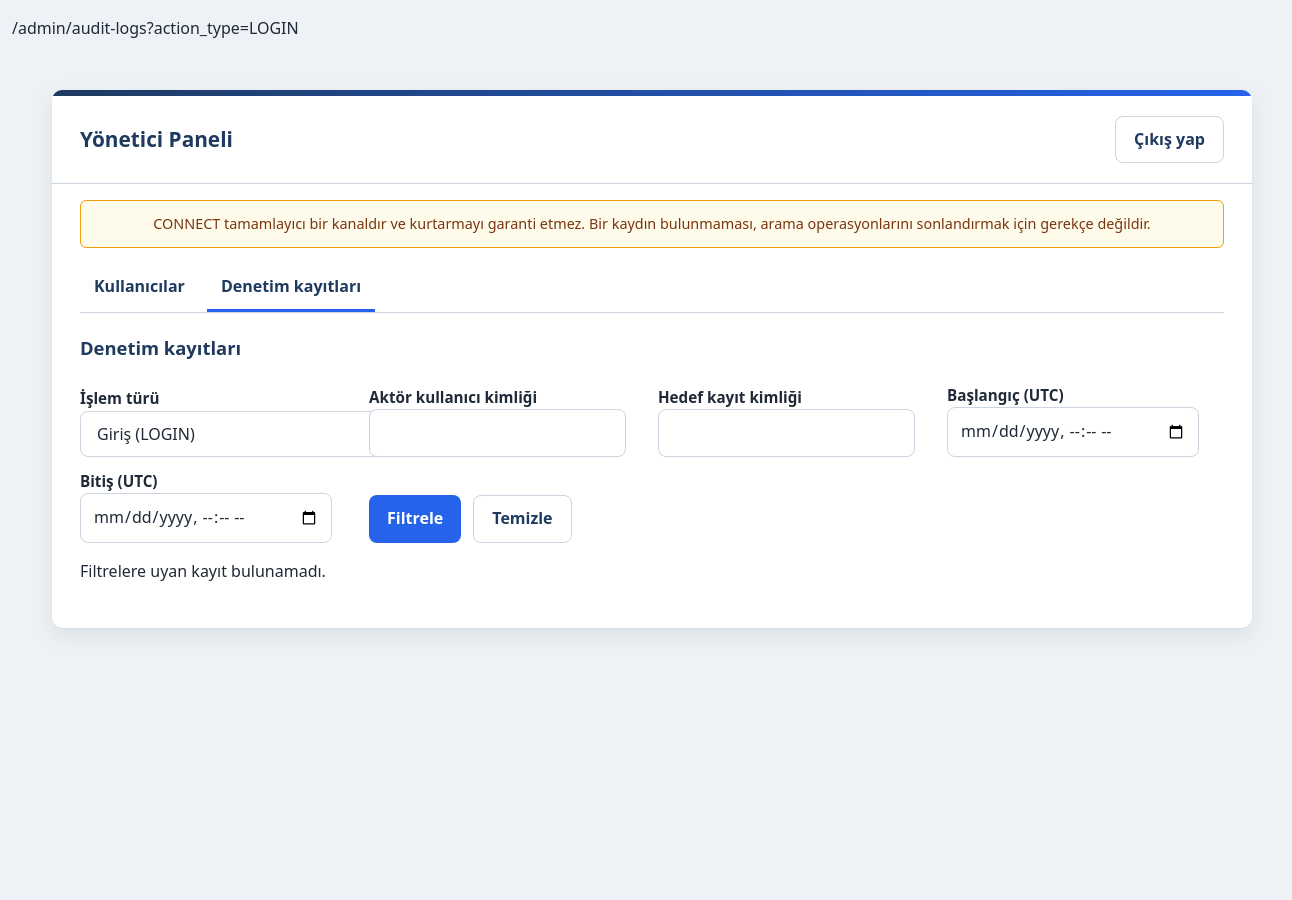
it: AuditLogPage › clears the filters with Temizle
Expected: the text "Filtrelere uyan kayıt bulunamadı." is shown, [80,560,326,582]
Click the button "Temizle" at (522, 519), box [473,495,572,543]
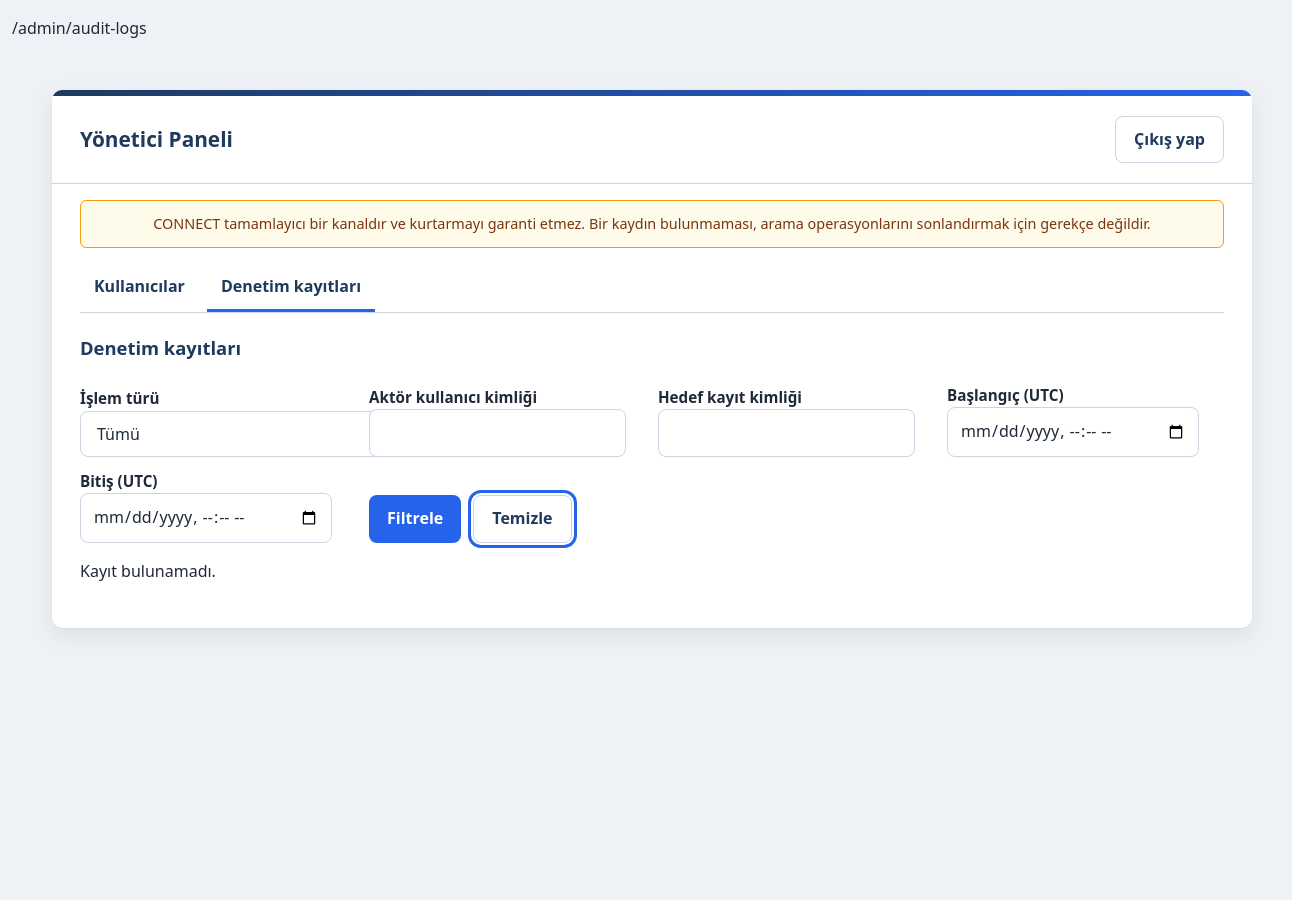
Expected: the text with test id "location" reads "/admin/audit-logs", [12,17,147,39]
Result: the dropdown labelled "İşlem türü" shows "Tümü" at [80,411,500,457]
